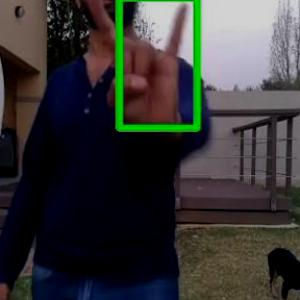takeoff-hand: (88, 0, 194, 129)
